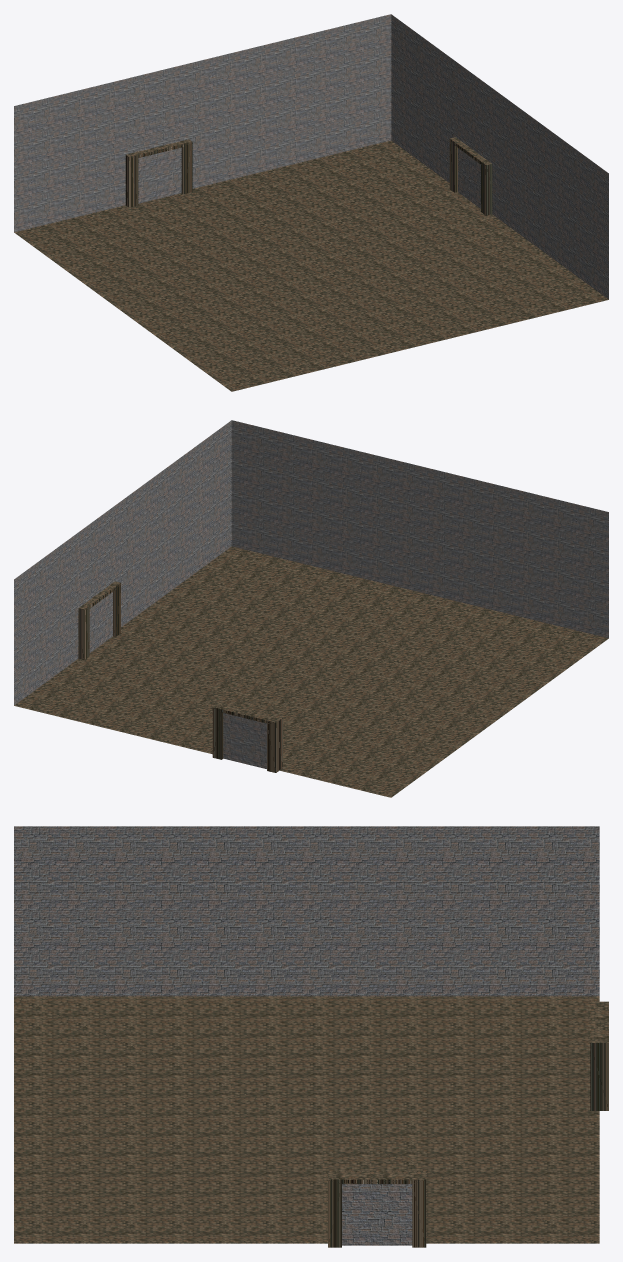
The model's file is room_preview.gltf.
The picture shows the model from 3 angles, top to bottom: view 1: azimuth 30°, elevation 25°; view 2: azimuth 150°, elevation 25°; view 3: azimuth 270°, elevation 25°; orthographic projection. The views are drawn at different scales.
Visible parts, largest first — view 1: parent, door2_door, door2_impl, door1_impl, door1_door; view 2: parent, door2_door, door2_impl, door1_impl, door1_door; view 3: parent, door1_door, door1_impl, door2_impl.
Boxes of the visible parts, x1,y1,x2,y2 form: parent: (14, 14, 608, 391); door2_door: (138, 147, 181, 203); door2_impl: (125, 139, 192, 207); door1_impl: (449, 137, 492, 215); door1_door: (458, 148, 480, 208); parent: (14, 420, 608, 797); door2_door: (223, 713, 266, 768); door2_impl: (212, 702, 282, 772); door1_impl: (78, 581, 120, 659); door1_door: (89, 592, 112, 652); parent: (14, 826, 599, 1243); door1_door: (342, 1184, 412, 1245); door1_impl: (328, 1171, 426, 1247); door2_impl: (590, 1001, 608, 1110).
Bounding box in the file's own units: 12.7 × 4 × 12.7.
Materials: 3 (3 with a texture image).
